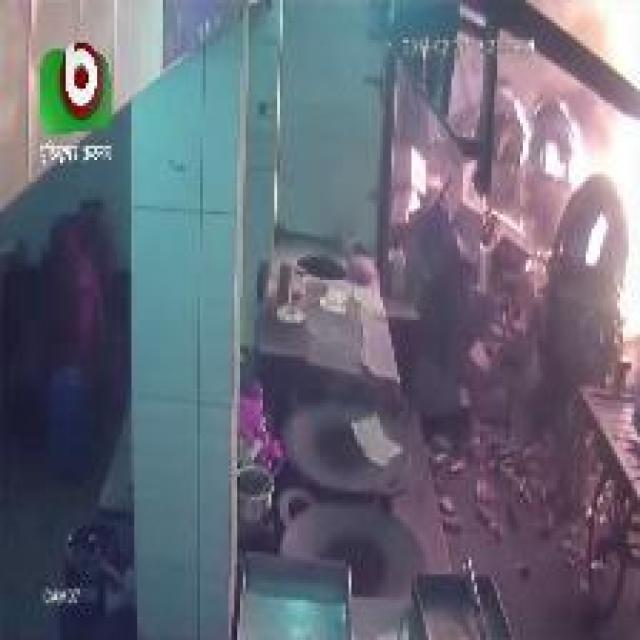smoke: (551, 3, 640, 343)
